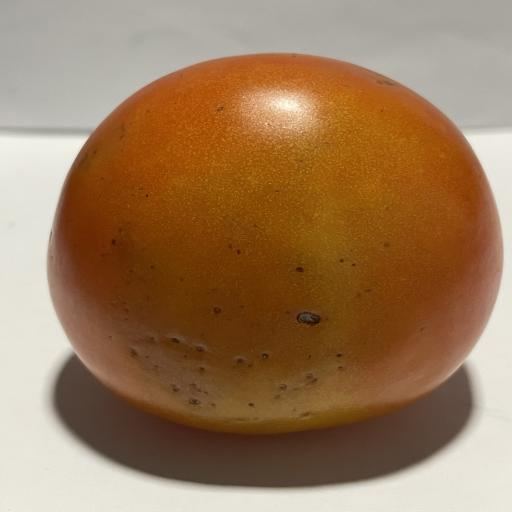ripe: (48, 54, 502, 433)
